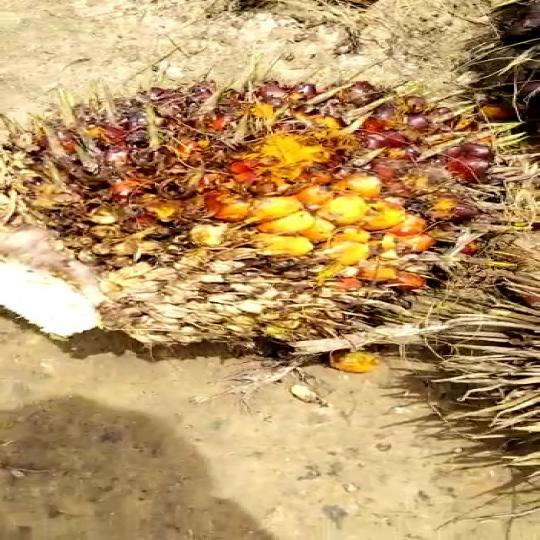masak: (0, 68, 540, 374)
